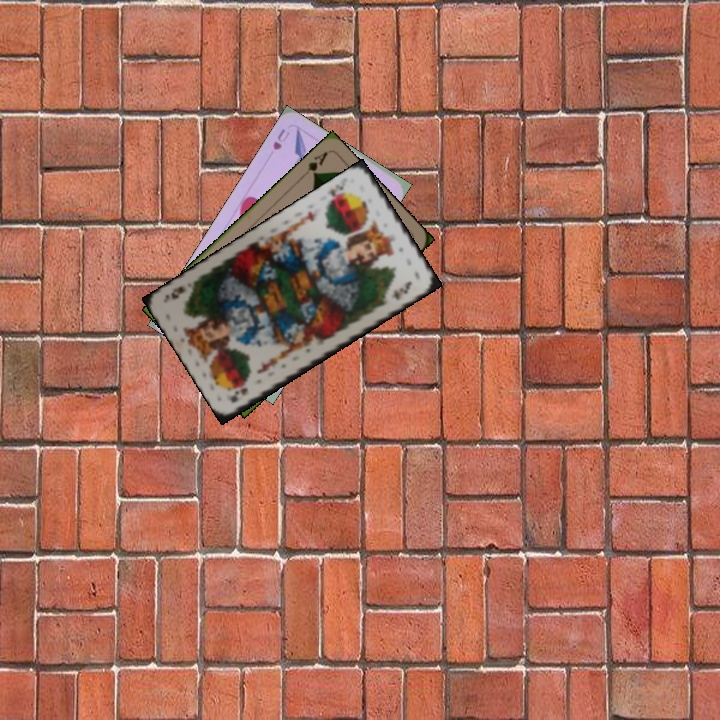GA: (298, 147, 331, 180)
HU: (269, 125, 292, 153)
SK: (224, 383, 251, 406), (324, 177, 349, 200)
